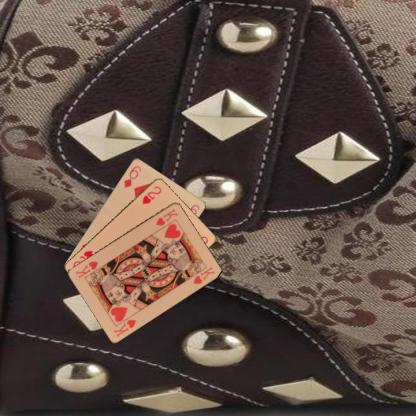2h: (139, 183, 162, 205)
6d: (121, 163, 142, 189)
Kh: (111, 317, 137, 338), (153, 206, 179, 226)
